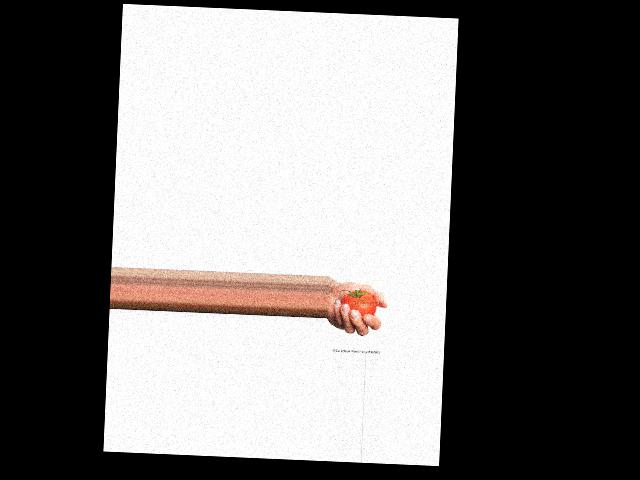tomato: (340, 289, 377, 316)
